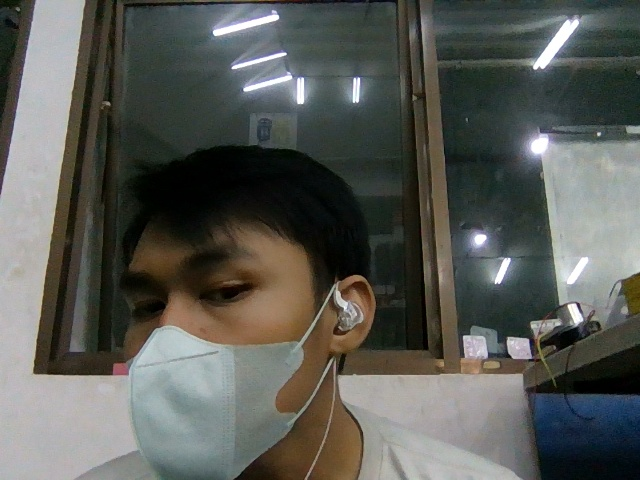mask_on: (125, 326, 306, 480)
